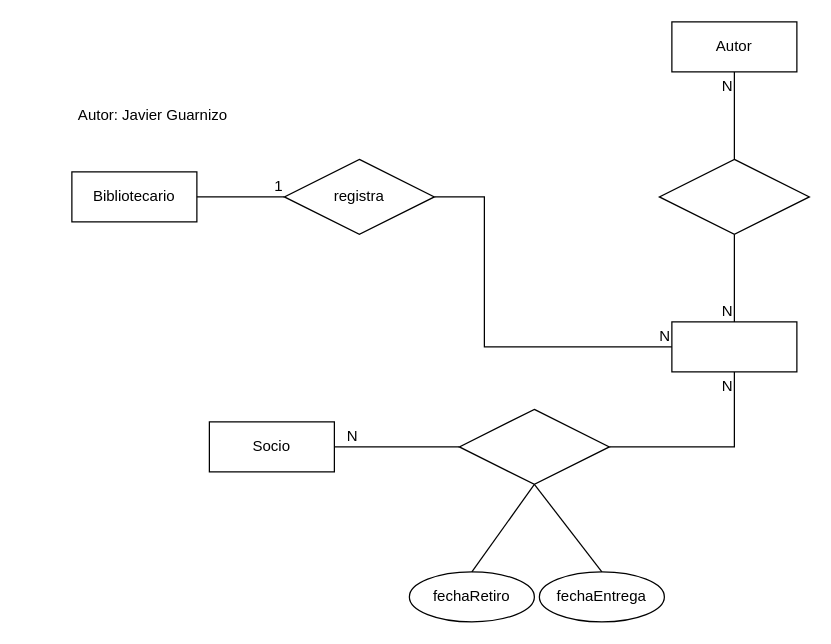
The diagram is 831 pixels wide and 644 high, and some of its shapes have lost their labels. Each missing label, with the centre of its shape:
escribe: the point at 733,196
Libro: the point at 734,346
realiza préstamo: the point at 533,446
